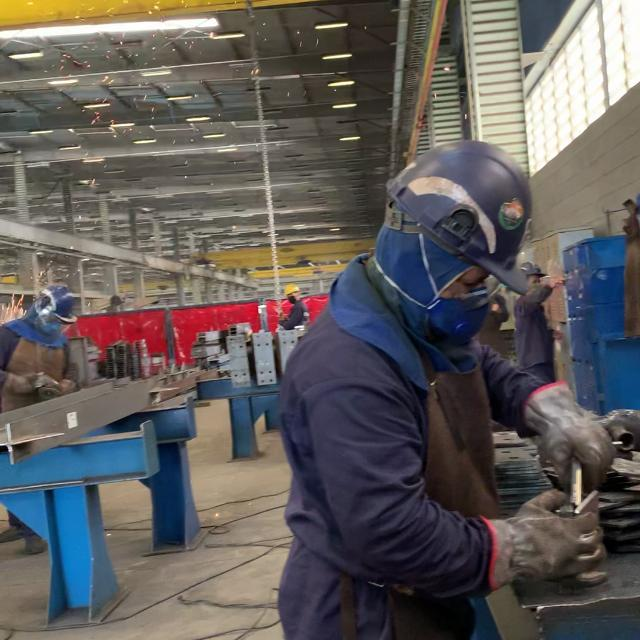eye-glass: (415, 236, 507, 315)
face-shield: (484, 486, 608, 594), (525, 381, 616, 483)
glove: (384, 140, 534, 296)
mask: (277, 139, 617, 630)
